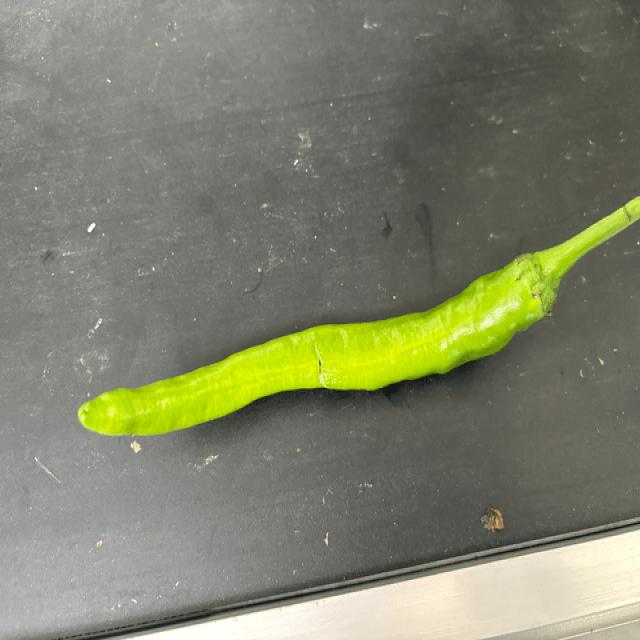chili: (77, 252, 563, 439)
